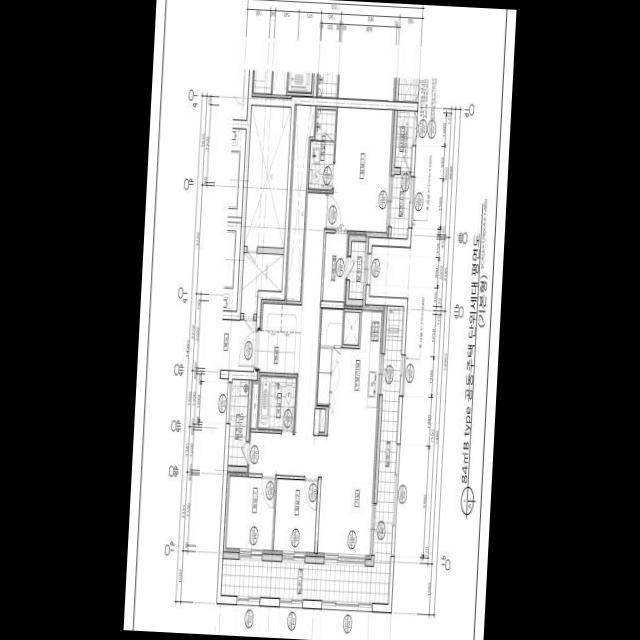background: (123, 0, 517, 640)
space_balconi: (221, 306, 404, 603), (391, 110, 414, 238), (228, 379, 249, 466), (347, 241, 368, 299)
space_bedroom: (327, 107, 395, 237), (224, 472, 276, 554), (273, 478, 318, 556)
space_dressroom: (323, 233, 349, 301)
space_elevator: (223, 221, 241, 311), (228, 128, 246, 217)
space_elevator_hall: (220, 319, 256, 371)
space_front: (256, 299, 302, 374)
space_kitchen: (317, 304, 384, 408)
space_living_room: (249, 192, 379, 559)
space_other: (244, 105, 291, 247), (285, 104, 315, 301), (241, 252, 283, 313), (343, 311, 360, 344), (250, 380, 259, 428)
space_toilet: (308, 109, 336, 189), (258, 375, 296, 430)
